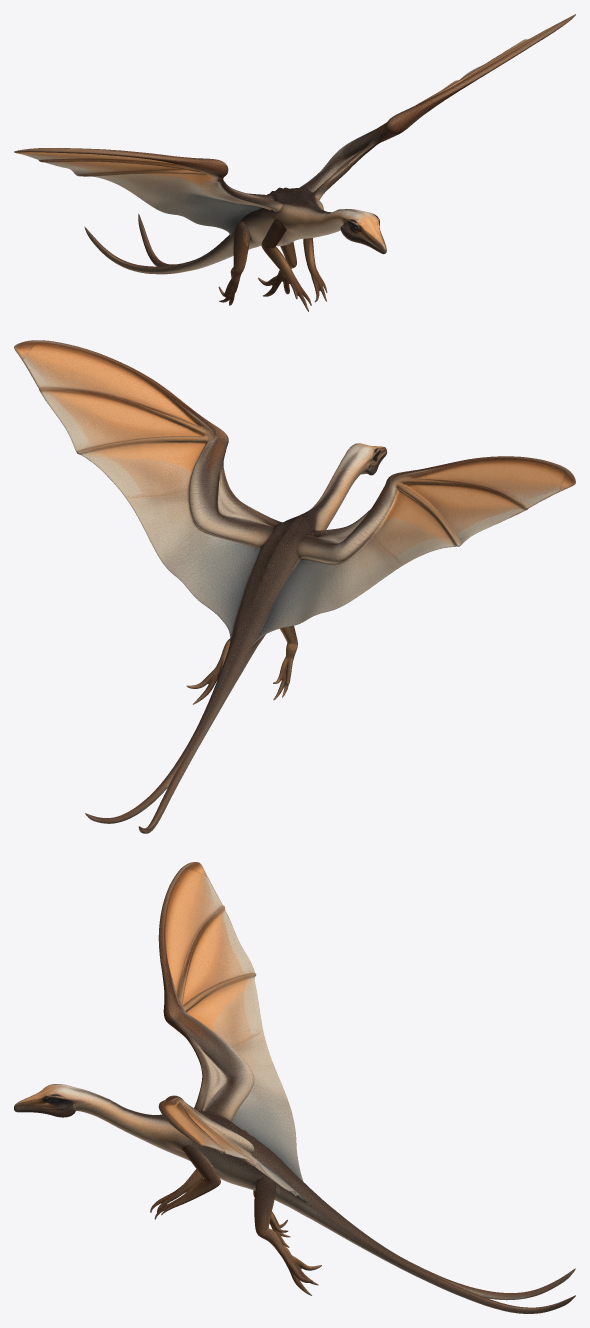
Rendered from Pterosaur.glb.
3 renders of one model, top to bottom at view 1: azimuth 30°, elevation 25°; view 2: azimuth 150°, elevation 25°; view 3: azimuth 270°, elevation 25°, orthographic. The views are drawn at different scales.
Size of the model in its own units: 1.9 by 0.9681 by 1.6.
Materials: 1 (1 with a texture image).
